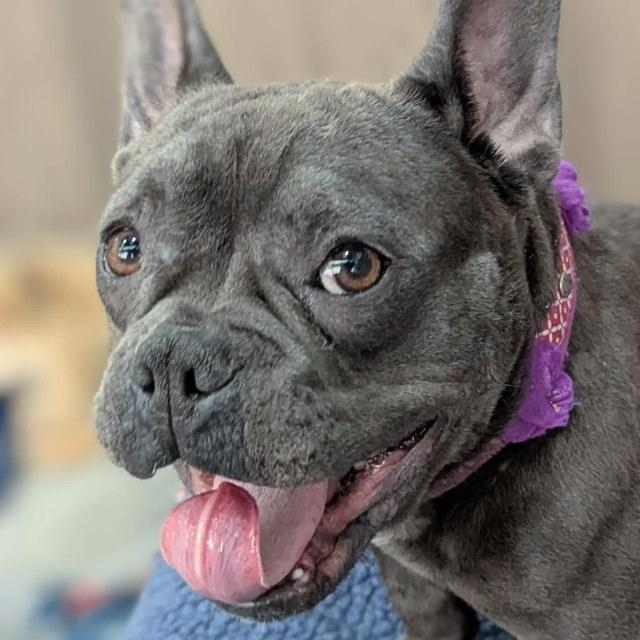french_bulldog_dog: (64, 0, 579, 624)
